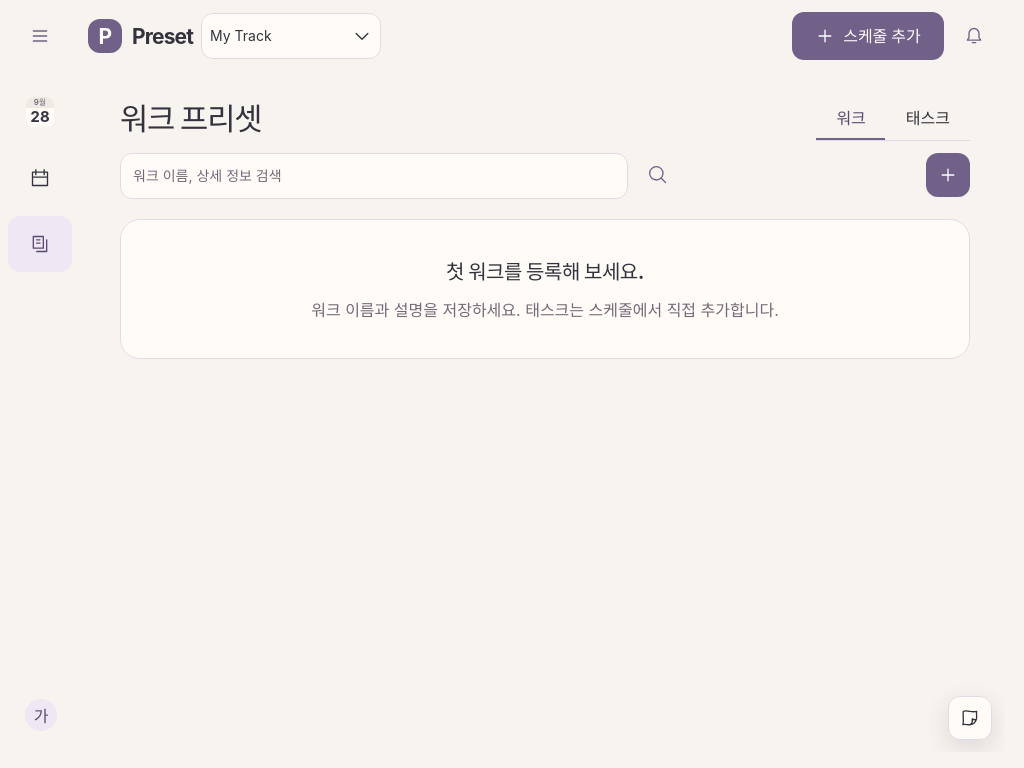
app settings › clears navigation selection and returns to the same /presets/works destination
Click the button named "가상 계정": (40, 715) [8,690,72,740]
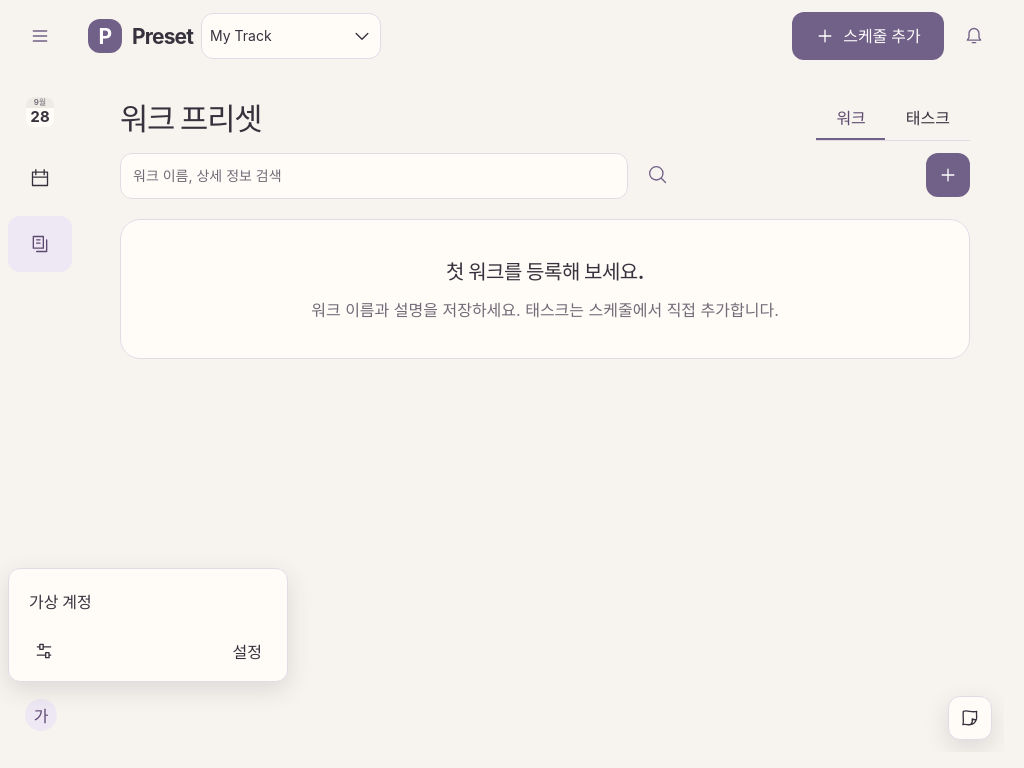
Click the button "설정": (44, 651) [17,629,279,673]
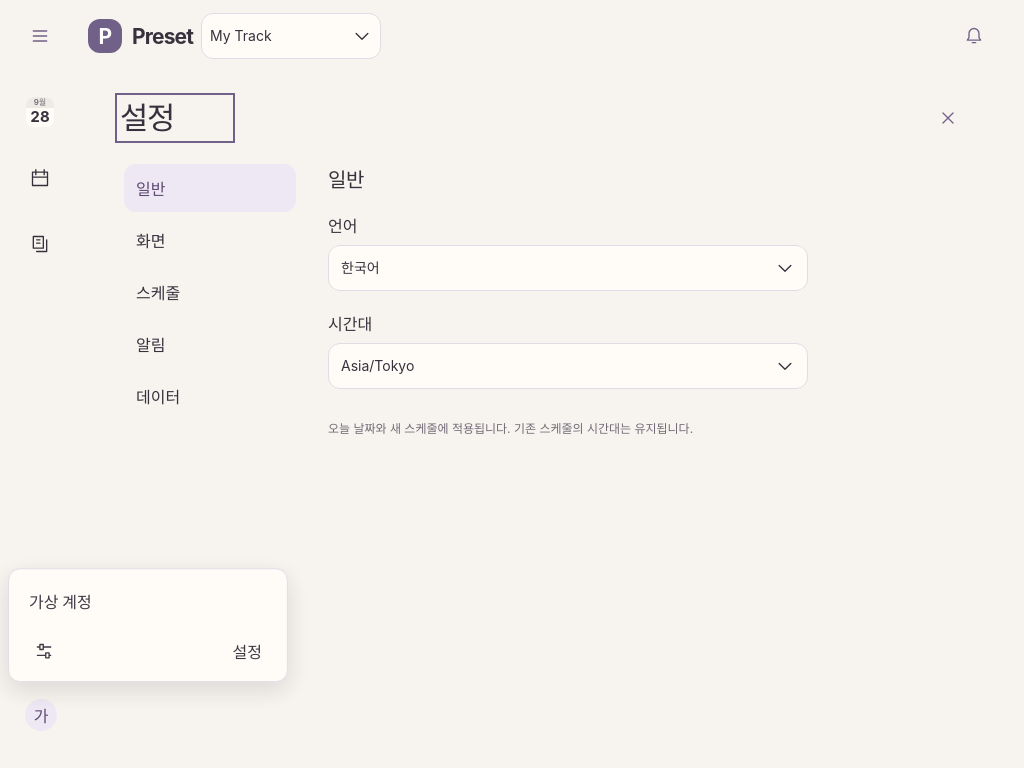
Click the link named "프리셋 설정": (40, 244) [26,234,54,254]
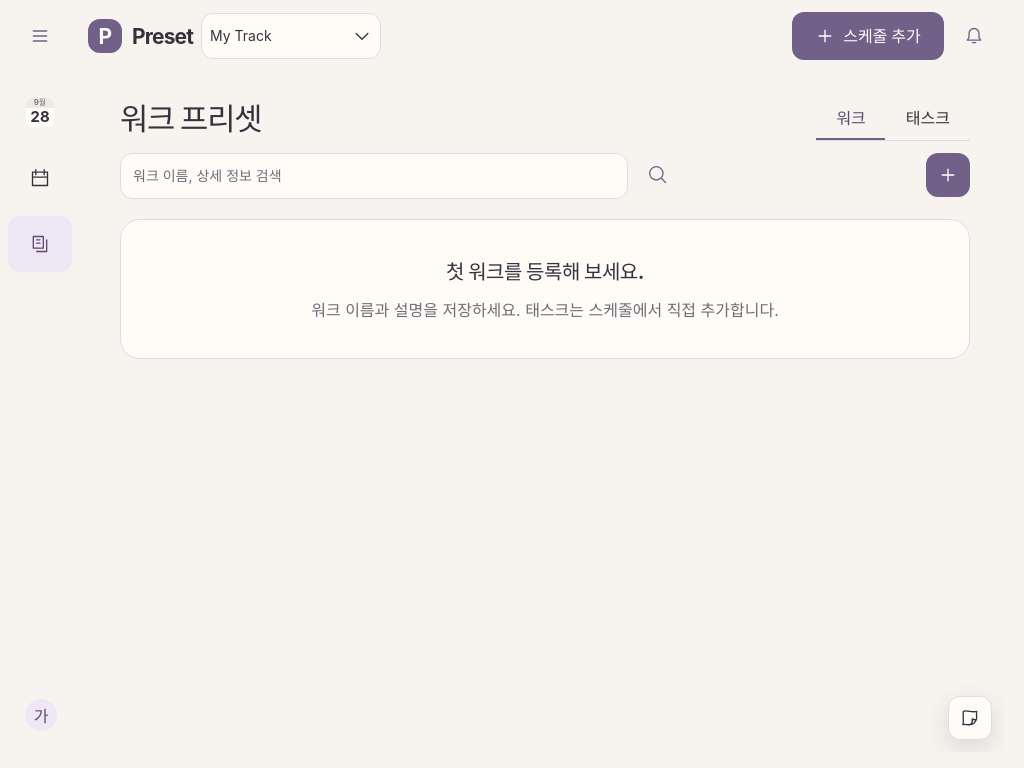
Expected: the button "설정" is gone
Expected: the element that starts with "워크 프리셋" is shown
